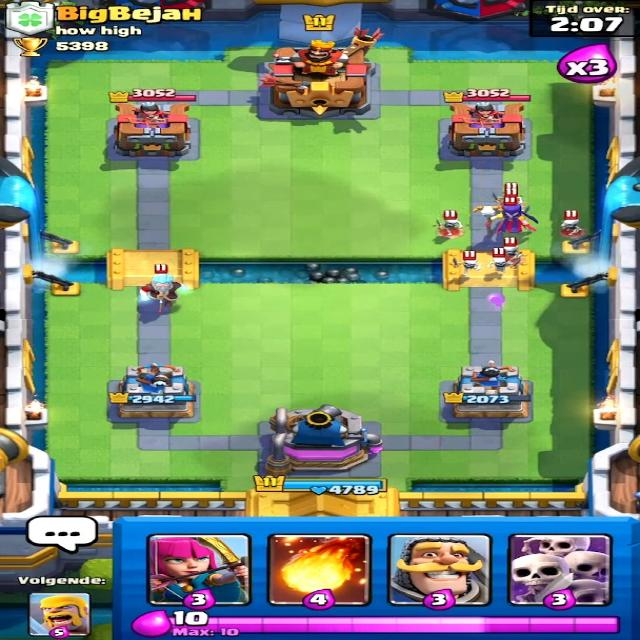Enemy_Ice_Wizard_Troop: (130, 272, 191, 310)
Enemy_Skeleton_Troop: (437, 212, 472, 234), (454, 252, 484, 277), (491, 247, 513, 278), (556, 213, 584, 237)
Enemy_Witch_Troop: (476, 208, 538, 238)
Fireball_Card: (268, 532, 373, 607)
